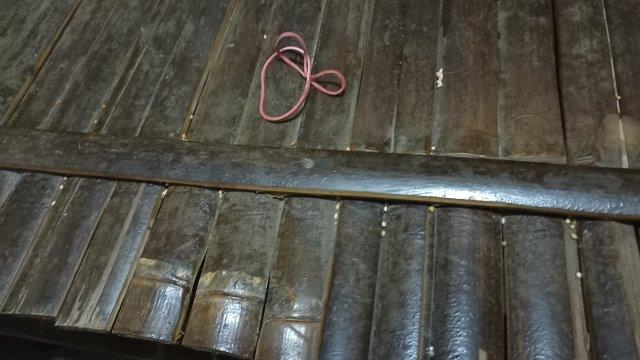karet: (259, 32, 346, 122)
